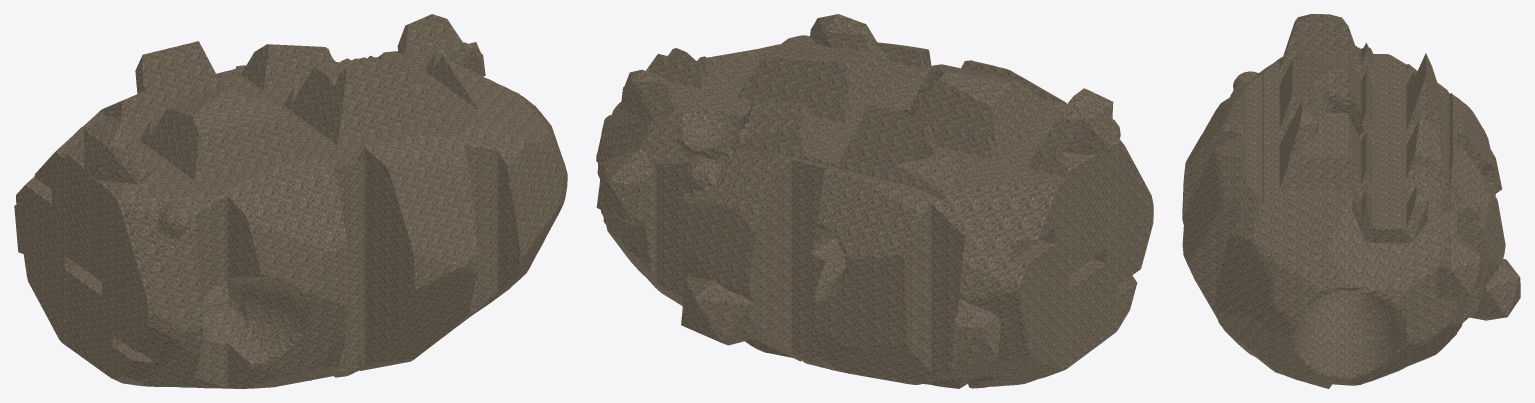
File: kovuk.glb
3 renders of one model, left to right at view 1: azimuth 30°, elevation 25°; view 2: azimuth 150°, elevation 25°; view 3: azimuth 270°, elevation 25°, orthographic. The views are drawn at different scales.
Parts seen in each view (by area): view 1: lod0; view 2: lod0; view 3: lod0.
Boxes of the visible parts, x1,y1,x2,y2 form: lod0: (14,14,567,388); lod0: (596,14,1153,388); lod0: (1182,14,1520,388).
Size of what is drawn, in the model's own units: 1130 by 722 by 825.
1 material, 1 textured.
